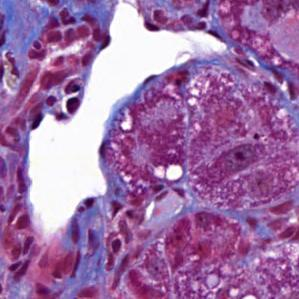inflammation: (56, 75, 87, 116)
